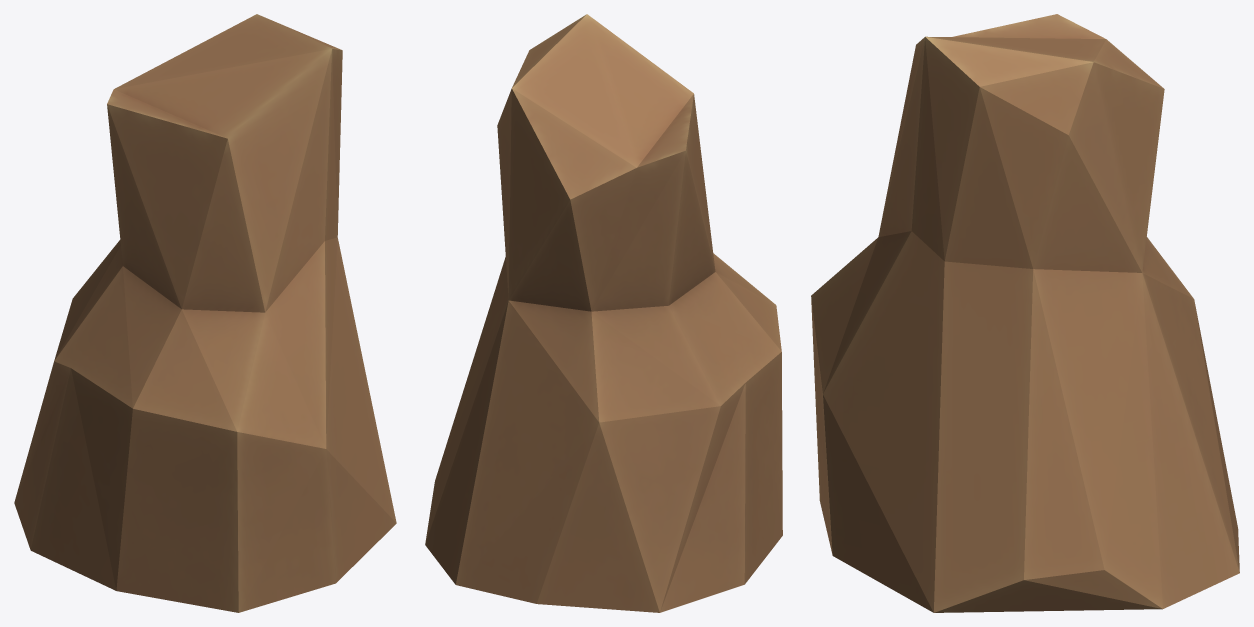
File: Mountain rock_4.fbx
3 renders of one model, left to right at view 1: azimuth 30°, elevation 25°; view 2: azimuth 150°, elevation 25°; view 3: azimuth 270°, elevation 25°, orthographic. The views are drawn at different scales.
Visible parts, largest first — view 1: Mountain rock_4; view 2: Mountain rock_4; view 3: Mountain rock_4.
Part boxes in pixels (<box>): Mountain rock_4: <box>14,14,396,612</box>; Mountain rock_4: <box>425,14,782,612</box>; Mountain rock_4: <box>811,14,1239,612</box>.
Bounding box in the file's own units: 208 × 303 × 218.
